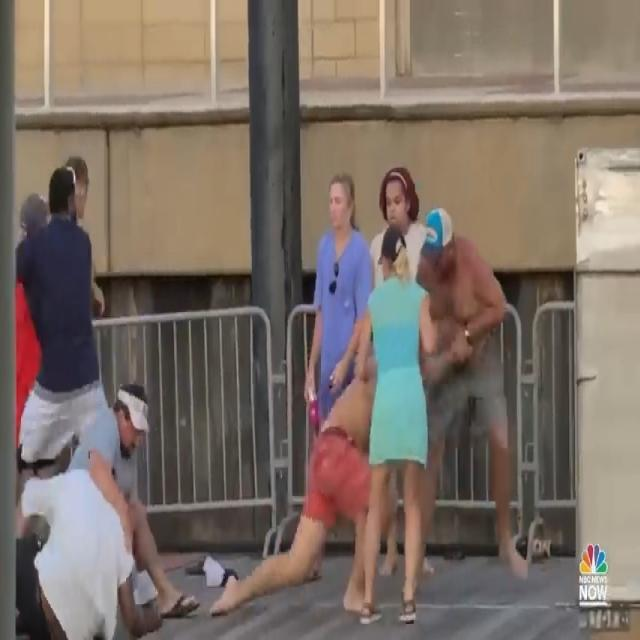fight: (212, 203, 538, 630), (15, 373, 203, 640)
